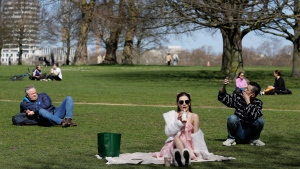person: (213, 76, 282, 151), (154, 90, 217, 168), (9, 80, 83, 131)
